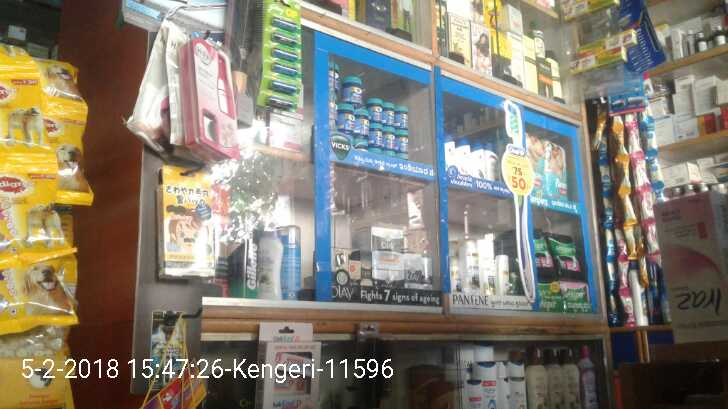beauty: (233, 210, 259, 296), (371, 226, 402, 286), (401, 256, 434, 291), (460, 236, 479, 295), (482, 242, 499, 296), (469, 141, 485, 178), (455, 137, 469, 177), (484, 145, 500, 177), (445, 133, 456, 174)
pharmacy: (548, 136, 572, 208), (525, 134, 546, 202), (336, 71, 364, 107), (554, 234, 579, 270), (564, 282, 590, 315), (537, 281, 564, 311), (332, 105, 356, 134), (356, 104, 372, 142), (395, 104, 415, 130), (381, 123, 398, 147), (371, 97, 385, 123), (397, 128, 411, 152), (385, 100, 396, 128), (369, 124, 382, 147)
